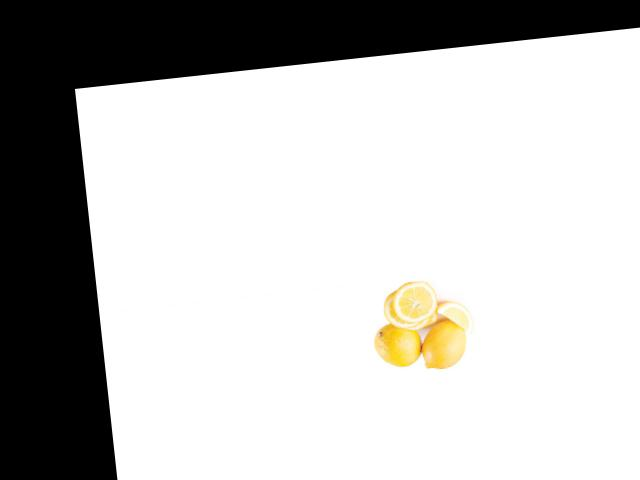lemon: (373, 322, 429, 370)
